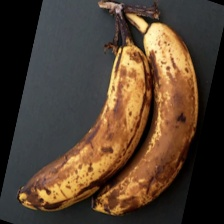banana: (38, 35, 178, 175)
